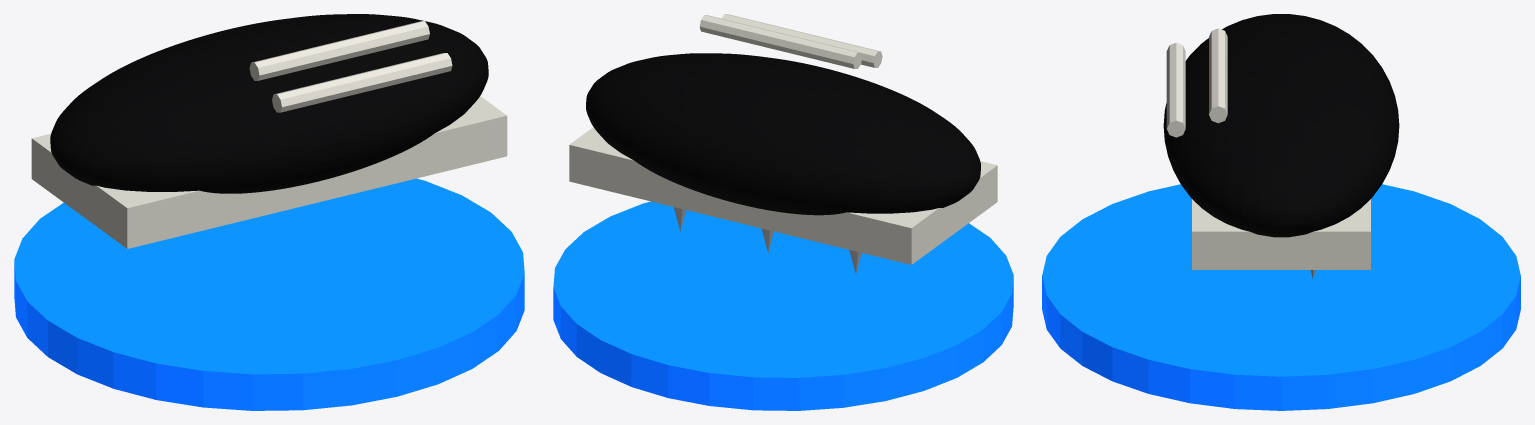
Rendered from sports_cleats.dae.
3 renders of one model, left to right at view 1: azimuth 30°, elevation 25°; view 2: azimuth 150°, elevation 25°; view 3: azimuth 270°, elevation 25°, orthographic. The views are drawn at different scales.
Visible parts, largest first — view 1: 04_17_Popular_Sports_Cleats_ROOT_base, 04_17_Popular_Sports_Cleats_part_01, 04_17_Popular_Sports_Cleats_part_02, 04_17_Popular_Sports_Cleats_part_03, 04_17_Popular_Sports_Cleats_part_04; view 2: 04_17_Popular_Sports_Cleats_ROOT_base, 04_17_Popular_Sports_Cleats_part_01, 04_17_Popular_Sports_Cleats_part_02, 04_17_Popular_Sports_Cleats_part_04, 04_17_Popular_Sports_Cleats_part_03; view 3: 04_17_Popular_Sports_Cleats_ROOT_base, 04_17_Popular_Sports_Cleats_part_01, 04_17_Popular_Sports_Cleats_part_02, 04_17_Popular_Sports_Cleats_part_03, 04_17_Popular_Sports_Cleats_part_04.
Part boxes in pixels (x1,y1,x2,y2): 04_17_Popular_Sports_Cleats_ROOT_base: (14, 178, 524, 410); 04_17_Popular_Sports_Cleats_part_01: (50, 14, 488, 193); 04_17_Popular_Sports_Cleats_part_02: (31, 96, 507, 248); 04_17_Popular_Sports_Cleats_part_03: (272, 53, 452, 112); 04_17_Popular_Sports_Cleats_part_04: (249, 21, 429, 80); 04_17_Popular_Sports_Cleats_ROOT_base: (553, 201, 1013, 410); 04_17_Popular_Sports_Cleats_part_01: (586, 53, 980, 215); 04_17_Popular_Sports_Cleats_part_02: (569, 127, 997, 264); 04_17_Popular_Sports_Cleats_part_04: (699, 15, 862, 68); 04_17_Popular_Sports_Cleats_part_03: (721, 14, 882, 67); 04_17_Popular_Sports_Cleats_ROOT_base: (1042, 184, 1520, 410); 04_17_Popular_Sports_Cleats_part_01: (1163, 14, 1399, 237); 04_17_Popular_Sports_Cleats_part_02: (1192, 199, 1370, 269); 04_17_Popular_Sports_Cleats_part_03: (1166, 42, 1185, 137); 04_17_Popular_Sports_Cleats_part_04: (1209, 28, 1227, 123).
Bounding box in the file's own units: 0.76 × 0.4541 × 0.76.
